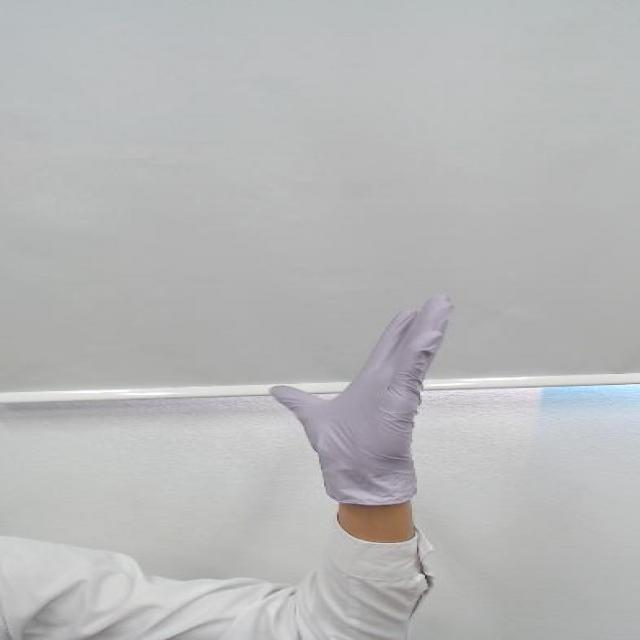with_gloves: (242, 284, 488, 494)
